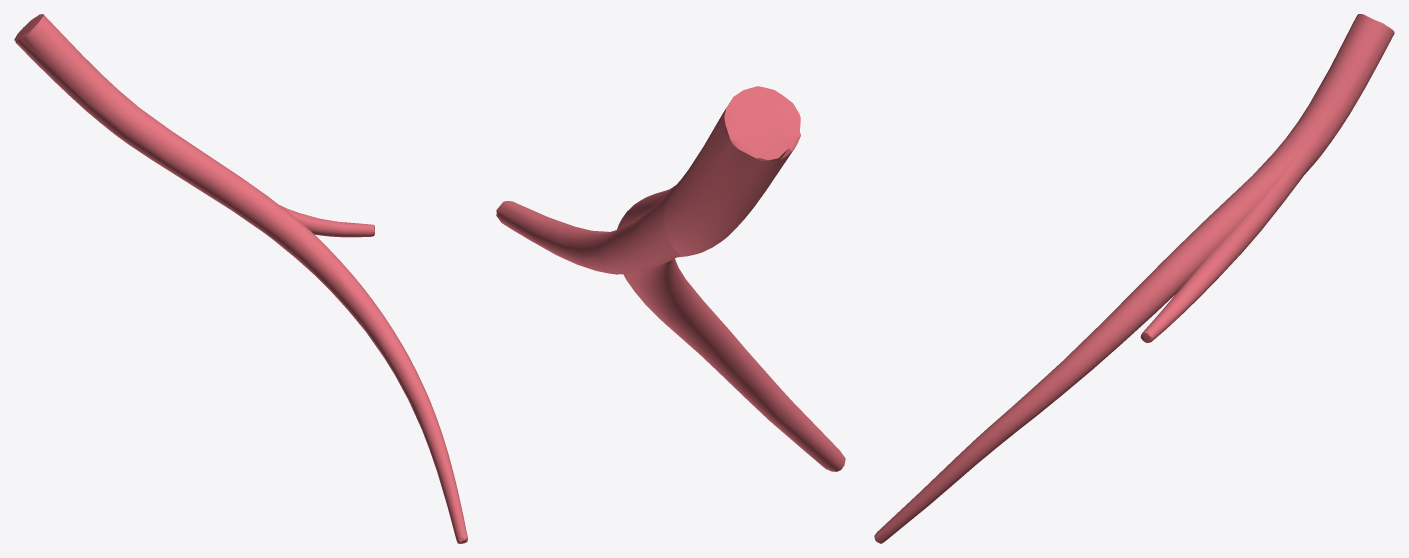
The model's file is fma8644_cx268.glb.
3 views of the same model, side by side, from view 1: azimuth 30°, elevation 25°; view 2: azimuth 150°, elevation 25°; view 3: azimuth 270°, elevation 25° (orthographic). The views are drawn at different scales.
Visible parts, largest first — view 1: FMA8644_CX268; view 2: FMA8644_CX268; view 3: FMA8644_CX268.
Part boxes in pixels (box(x1,y1,x2,y2)): FMA8644_CX268: box(14, 14, 467, 543); FMA8644_CX268: box(496, 86, 845, 471); FMA8644_CX268: box(874, 14, 1394, 543).
Bounding box in the file's own units: 0.0474 × 0.0725 × 0.0796.
